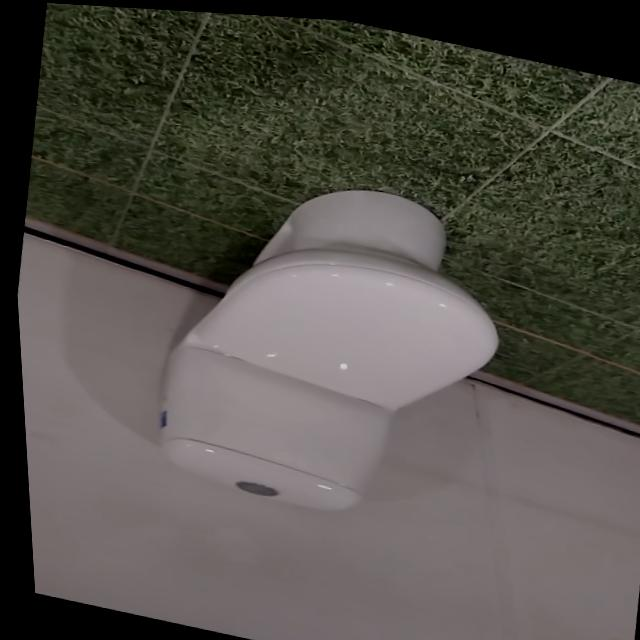toilet: (131, 144, 526, 543)
